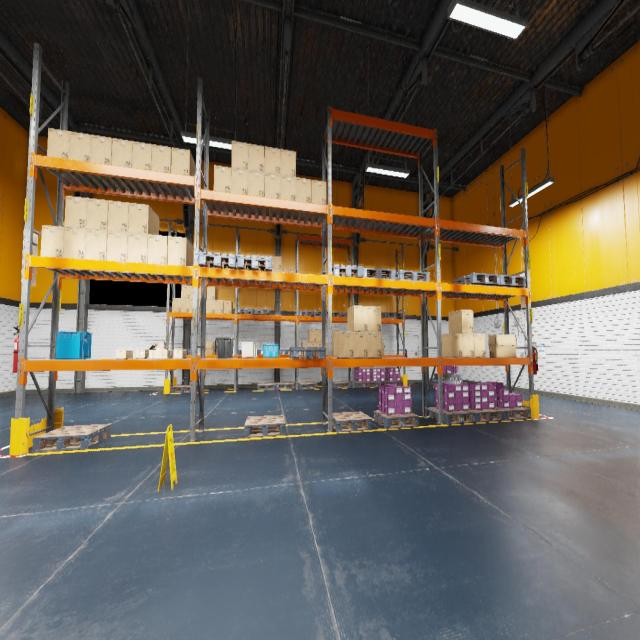box: (128, 202, 159, 235), (168, 236, 194, 266), (40, 225, 64, 257), (64, 196, 87, 228), (47, 128, 70, 159), (107, 200, 129, 232), (86, 198, 108, 230), (171, 147, 195, 176), (63, 228, 86, 258), (69, 131, 91, 162), (85, 229, 107, 260), (488, 334, 517, 357), (106, 231, 128, 261), (90, 135, 112, 164), (147, 234, 168, 264), (111, 138, 132, 167), (127, 233, 148, 262), (448, 310, 474, 333), (132, 141, 152, 170), (152, 144, 172, 172), (347, 305, 368, 331), (334, 331, 354, 358), (248, 143, 264, 176), (231, 140, 248, 170), (442, 333, 462, 357), (214, 165, 231, 192), (231, 168, 248, 194), (248, 170, 264, 197), (281, 148, 296, 176), (265, 146, 280, 174), (264, 172, 280, 198), (280, 175, 296, 200), (296, 177, 311, 203), (354, 332, 368, 358), (311, 180, 326, 204), (368, 332, 382, 357), (368, 306, 381, 331), (462, 334, 474, 357), (474, 334, 486, 356), (149, 343, 163, 358), (205, 341, 216, 355), (116, 349, 132, 358), (158, 349, 172, 359), (223, 300, 233, 314), (207, 286, 217, 299), (172, 298, 181, 312), (181, 285, 190, 299), (206, 300, 215, 313), (181, 298, 189, 312), (308, 329, 316, 342), (215, 300, 223, 313), (198, 286, 206, 299), (266, 255, 274, 268), (174, 350, 186, 358), (136, 349, 148, 357), (332, 330, 340, 342), (198, 300, 206, 312), (274, 256, 281, 268), (251, 254, 259, 264), (316, 329, 322, 342), (326, 342, 332, 354), (193, 257, 200, 266), (259, 255, 266, 264), (189, 300, 193, 312), (190, 286, 193, 298), (301, 342, 309, 346), (274, 268, 281, 272), (382, 342, 384, 354), (309, 343, 316, 346), (316, 343, 322, 346), (225, 262, 228, 268), (282, 269, 288, 272), (289, 270, 296, 272), (333, 342, 334, 354), (272, 268, 274, 272)
pallets: (32, 424, 111, 452), (244, 415, 286, 438), (332, 411, 372, 432), (429, 407, 476, 424), (374, 411, 418, 428), (198, 251, 238, 269), (454, 272, 499, 286), (237, 254, 272, 271), (483, 275, 526, 287), (327, 264, 363, 278), (468, 408, 504, 422), (495, 407, 531, 420), (289, 346, 325, 358), (396, 270, 430, 282), (363, 268, 395, 279), (171, 384, 197, 393), (434, 374, 460, 381), (276, 382, 294, 390), (332, 381, 352, 388), (257, 383, 276, 390), (298, 382, 318, 388), (352, 381, 372, 387), (370, 380, 387, 387), (254, 308, 270, 315), (384, 312, 402, 318), (384, 380, 402, 386), (172, 350, 192, 355), (298, 310, 314, 316), (238, 308, 254, 314), (238, 350, 257, 355), (332, 312, 347, 317), (314, 311, 327, 316), (279, 350, 289, 354), (381, 312, 387, 318), (258, 350, 263, 354)
